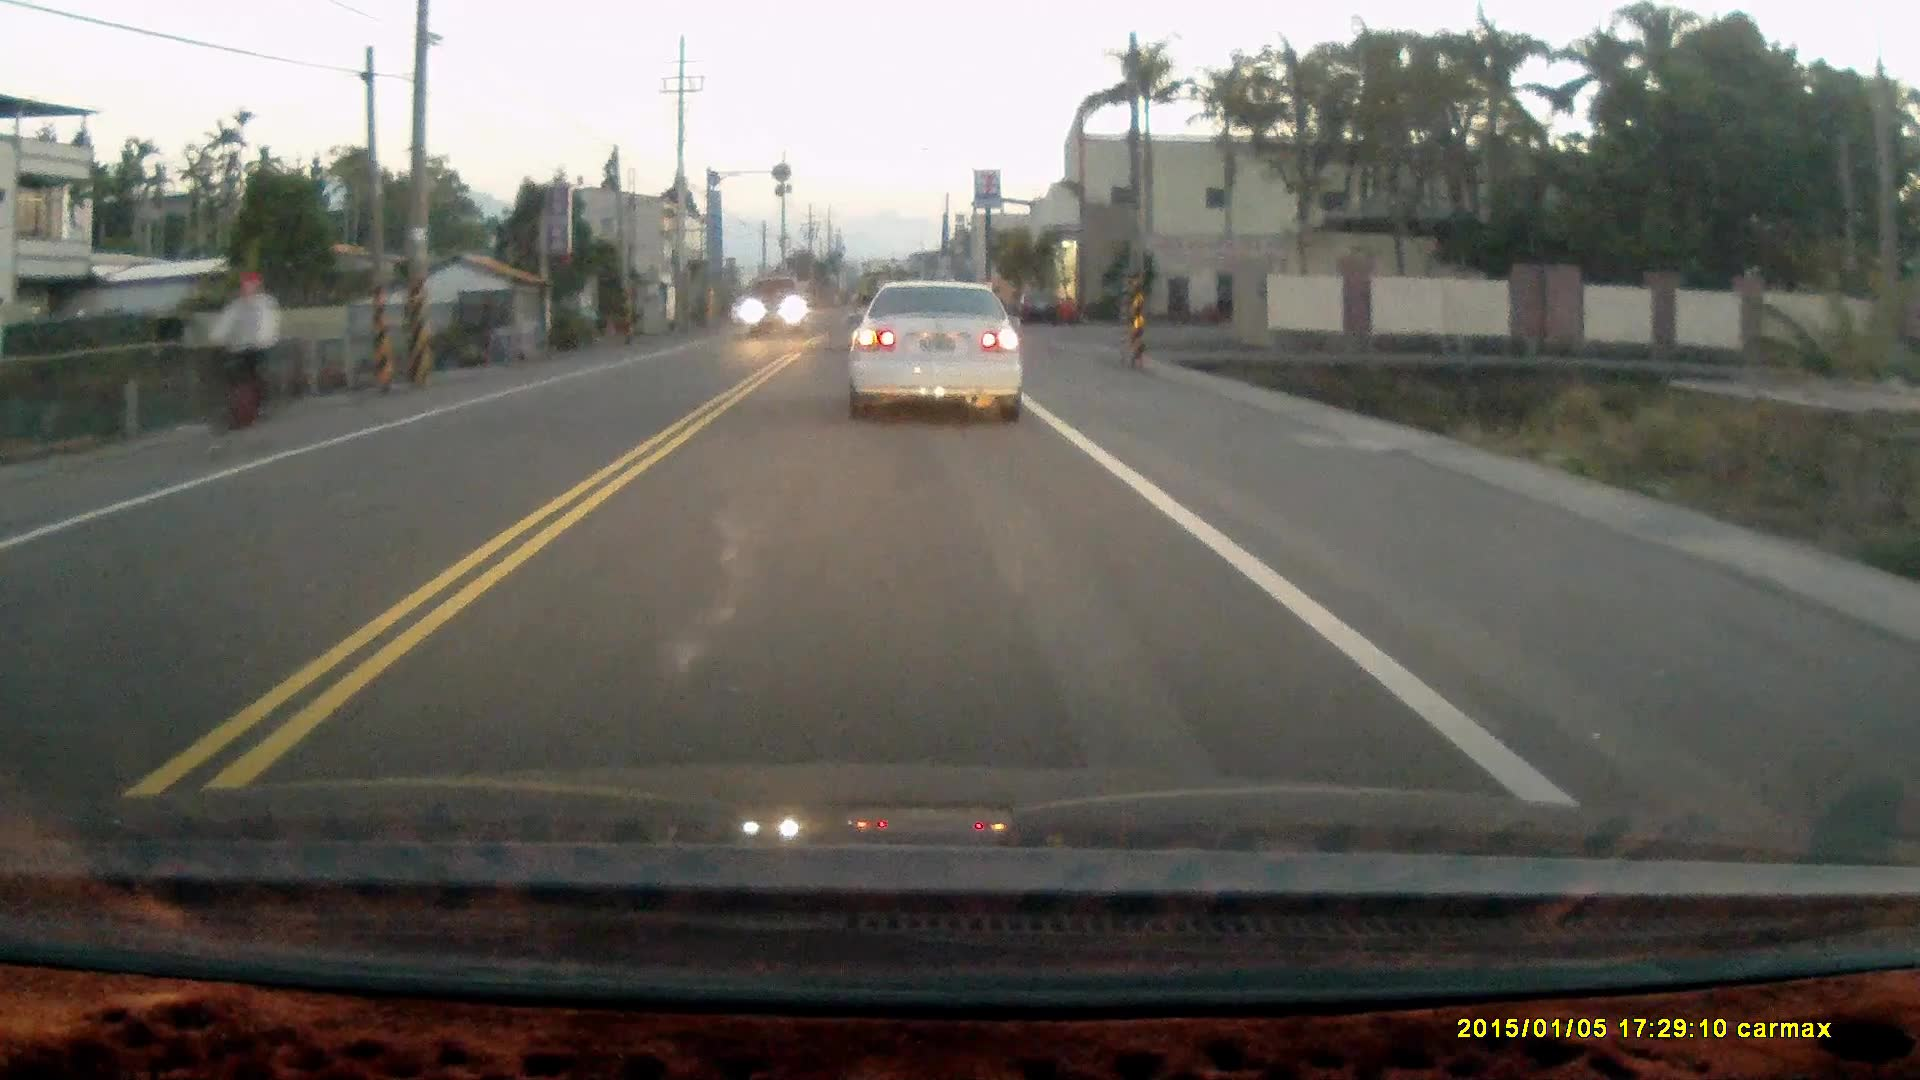rider: (190, 269, 282, 459)
vehicle: (849, 282, 1030, 422), (748, 276, 811, 336), (1013, 281, 1061, 322)
